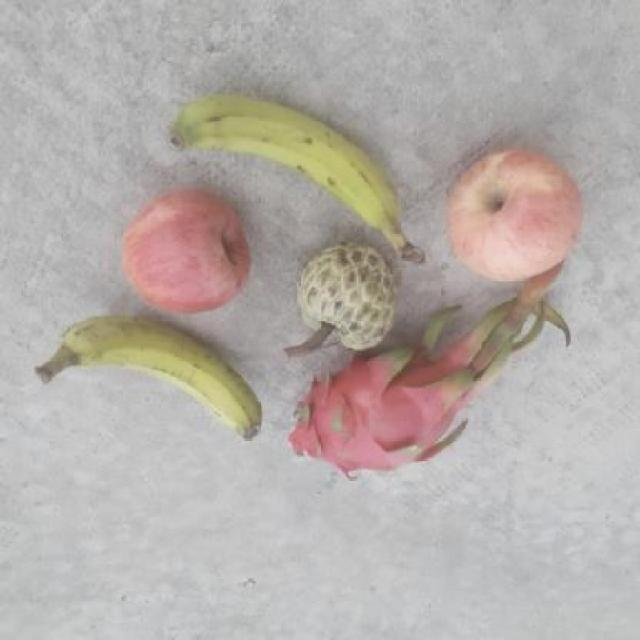apple: (442, 142, 590, 288), (116, 183, 255, 314)
banana: (168, 90, 427, 265), (36, 306, 262, 442)
dragon fruit: (266, 343, 474, 483)
sugar apple: (291, 239, 398, 356)
